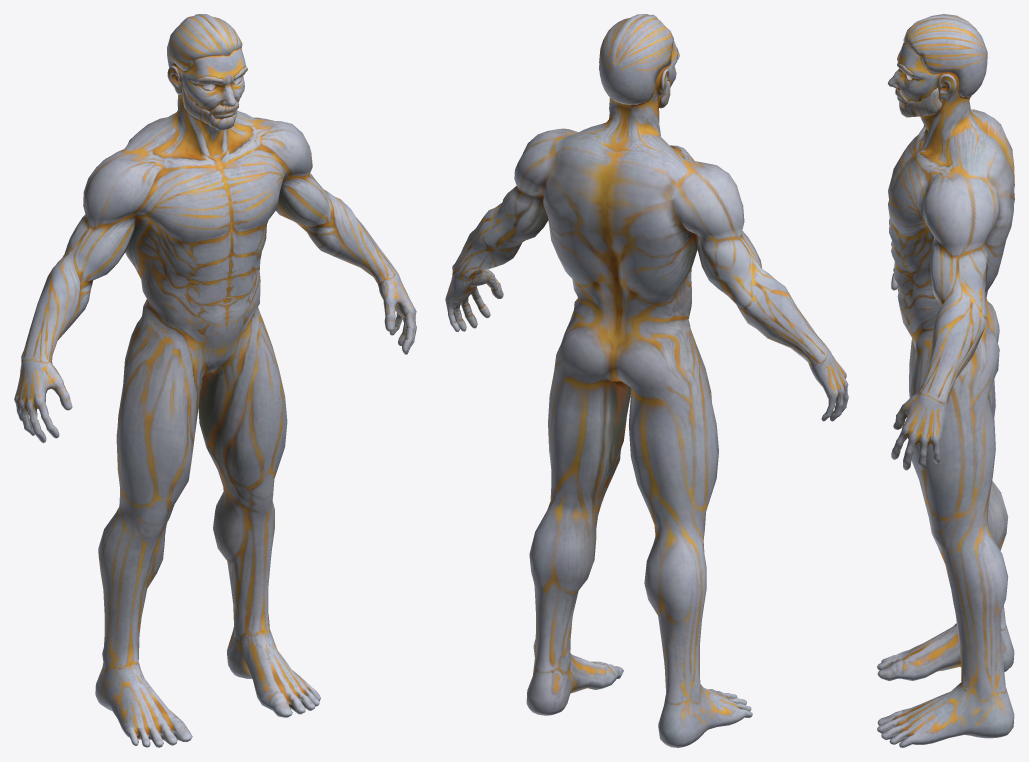
The model's file is player.glb.
3 views of the same model, side by side, from view 1: azimuth 30°, elevation 25°; view 2: azimuth 150°, elevation 25°; view 3: azimuth 270°, elevation 25° (orthographic).
Visible parts, largest first — view 1: BodyLow001_Low_10, Hair01_Low_12, DownBeard_Low_4; view 2: BodyLow001_Low_10, Hair01_Low_12; view 3: BodyLow001_Low_10, Hair01_Low_12, DownBeard_Low_4.
Part boxes in pixels (x1=…): BodyLow001_Low_10: x1=14, y1=48, x2=416, y2=747; Hair01_Low_12: x1=167, y1=14, x2=242, y2=71; DownBeard_Low_4: x1=181, y1=84, x2=237, y2=130; BodyLow001_Low_10: x1=445, y1=40, x2=848, y2=747; Hair01_Low_12: x1=599, y1=14, x2=673, y2=104; BodyLow001_Low_10: x1=877, y1=43, x2=1014, y2=747; Hair01_Low_12: x1=903, y1=14, x2=987, y2=97; DownBeard_Low_4: x1=899, y1=88, x2=941, y2=117.
Bounding box in the file's own units: 110 × 184 × 33.47.
Materials: 1 (1 with a texture image).
